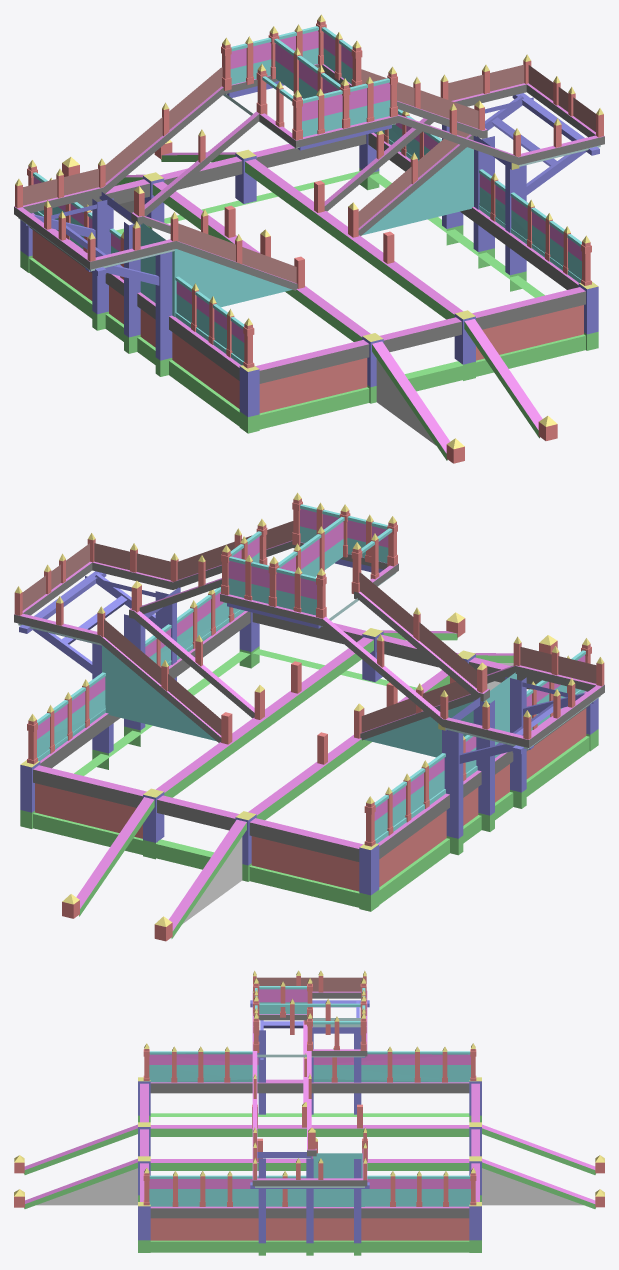
The model's file is L2fortress_02_s__Fort02_archer01.gltf.
The picture shows the model from 3 angles, top to bottom: view 1: azimuth 30°, elevation 25°; view 2: azimuth 150°, elevation 25°; view 3: azimuth 270°, elevation 25°; orthographic projection. The views are drawn at different scales.
Visible parts, largest first — view 1: Fort02_archer01; view 2: Fort02_archer01; view 3: Fort02_archer01.
Boxes of the visible parts, x1,y1,x2,y2 form: Fort02_archer01: (14,14,604,463); Fort02_archer01: (14,492,604,941); Fort02_archer01: (14,970,604,1255).
Size of the model in its own units: 7.52 by 3.61 by 9.9.
